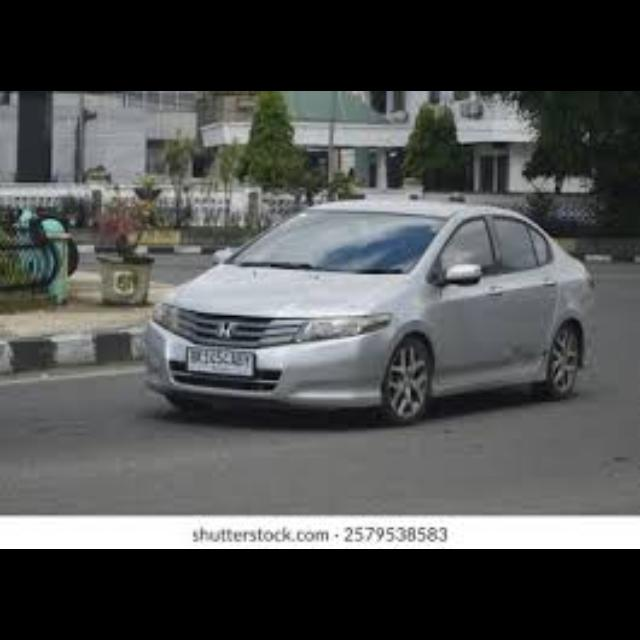vehicles: (114, 195, 596, 439)
